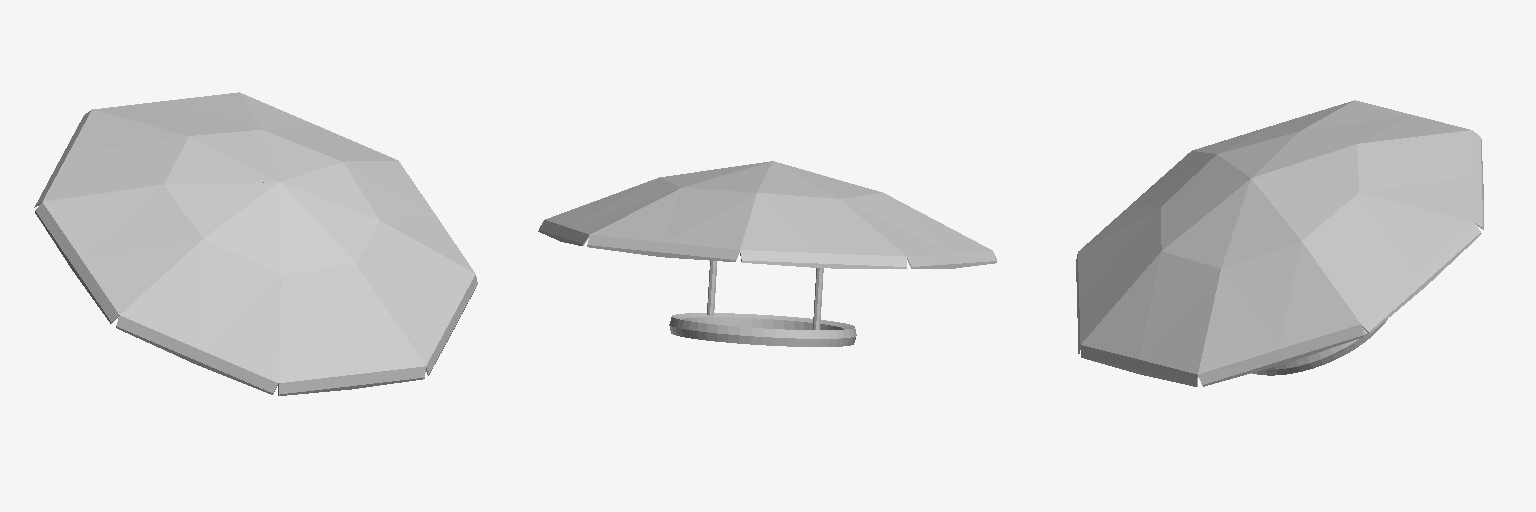
The model's file is umbrellahat_basic.sgm.obj.
3 renders of one model, left to right at view 1: azimuth 30°, elevation 25°; view 2: azimuth 150°, elevation 25°; view 3: azimuth 270°, elevation 25°, orthographic.
Size of the model in its own units: 1.16 by 0.5855 by 1.1.